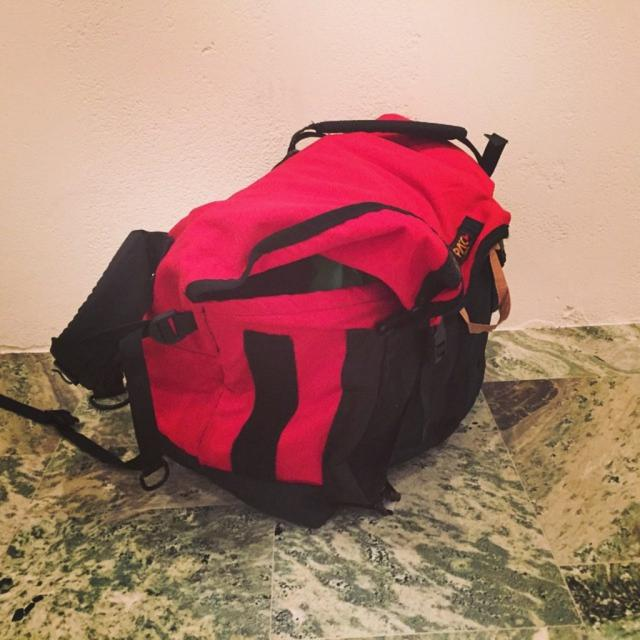backpack: (58, 110, 532, 522)
